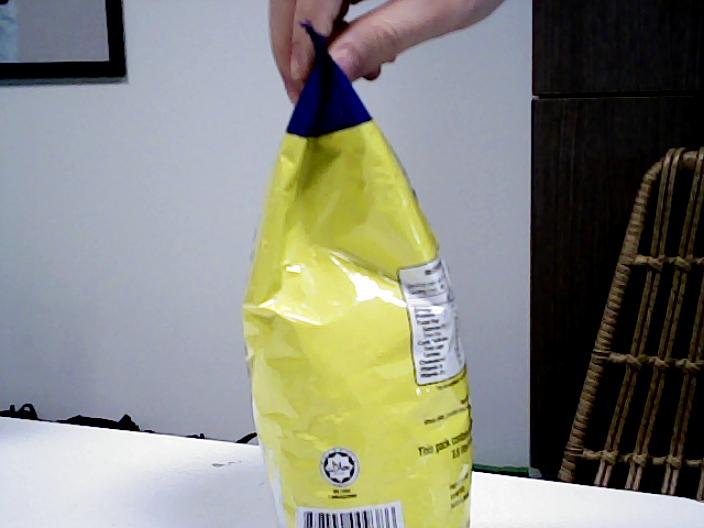Adult_Milk_500-599g_Halal_NonHealthy: (244, 88, 473, 528)
